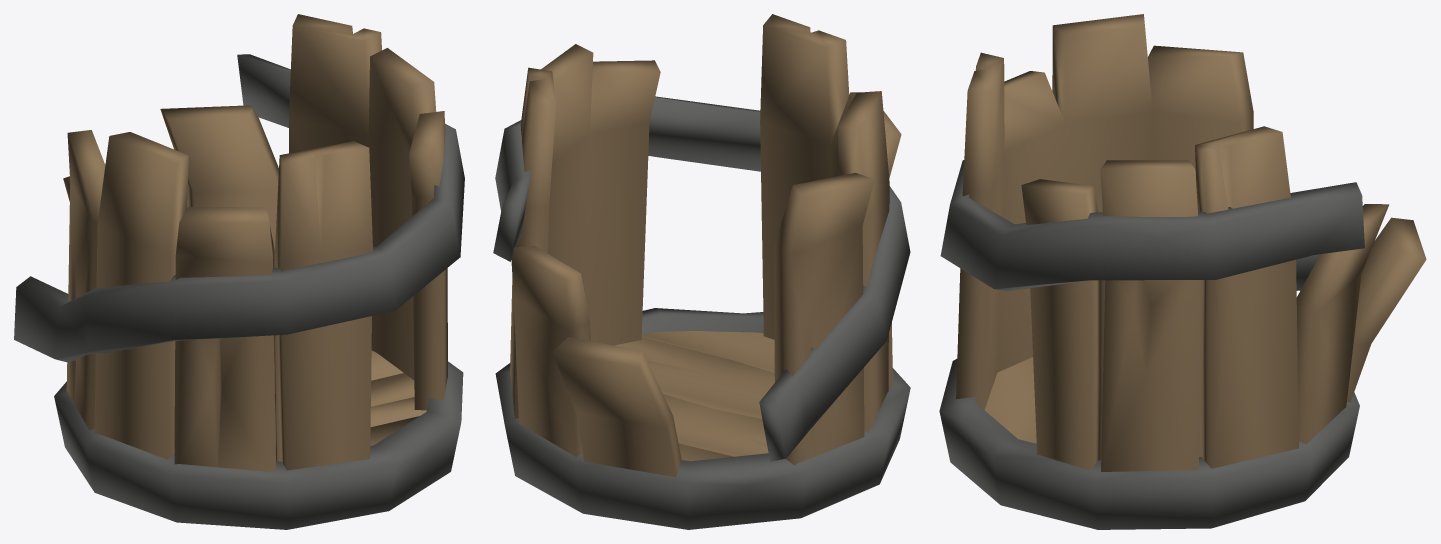
The model's file is rpgpp_av_barrel_01b.gltf.
3 renders of one model, left to right at view 1: azimuth 30°, elevation 25°; view 2: azimuth 150°, elevation 25°; view 3: azimuth 270°, elevation 25°, orthographic.
Parts seen in each view (by area): view 1: rpgpp_av_barrel_01b; view 2: rpgpp_av_barrel_01b; view 3: rpgpp_av_barrel_01b.
Boxes of the visible parts, x1,y1,x2,y2 form: rpgpp_av_barrel_01b: (14,14,464,529); rpgpp_av_barrel_01b: (493,14,910,529); rpgpp_av_barrel_01b: (939,14,1426,529).
Size of the model in its own units: 0.0102 by 0.00985 by 0.0119.
Materials: 1 (1 with a texture image).
